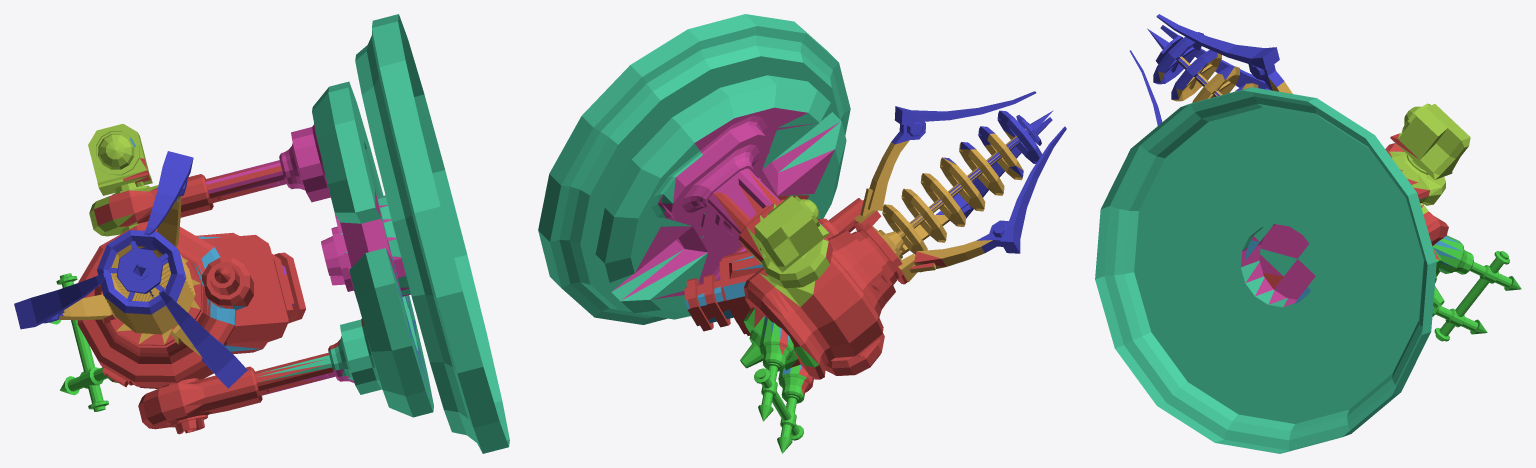
File: seg_pump_diff3f.glb
3 views of the same model, side by side, from view 1: azimuth 30°, elevation 25°; view 2: azimuth 150°, elevation 25°; view 3: azimuth 270°, elevation 25° (orthographic). The views are drawn at different scales.
Parts seen in each view (by area): view 1: world; view 2: world; view 3: world.
Part boxes in pixels (<box>): world: <box>14,14,509,453</box>; world: <box>538,14,1066,453</box>; world: <box>1095,14,1521,453</box>.
Bounding box in the file's own units: 1.68 × 1.24 × 1.47.
